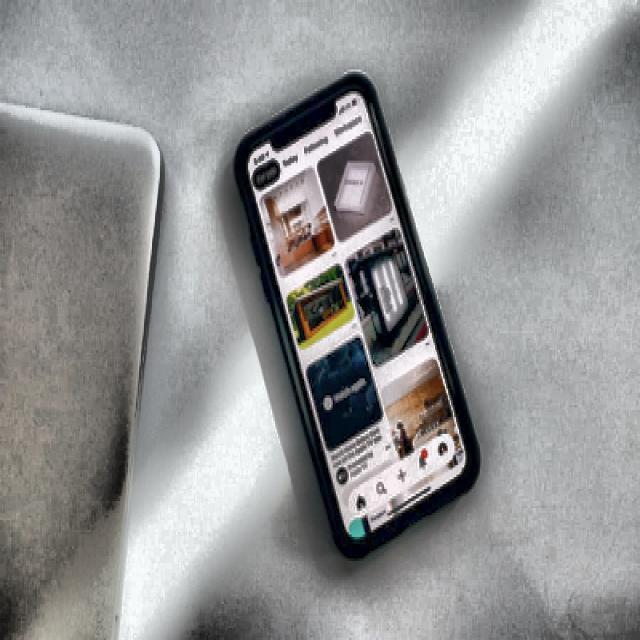Phone: (233, 68, 484, 569)
